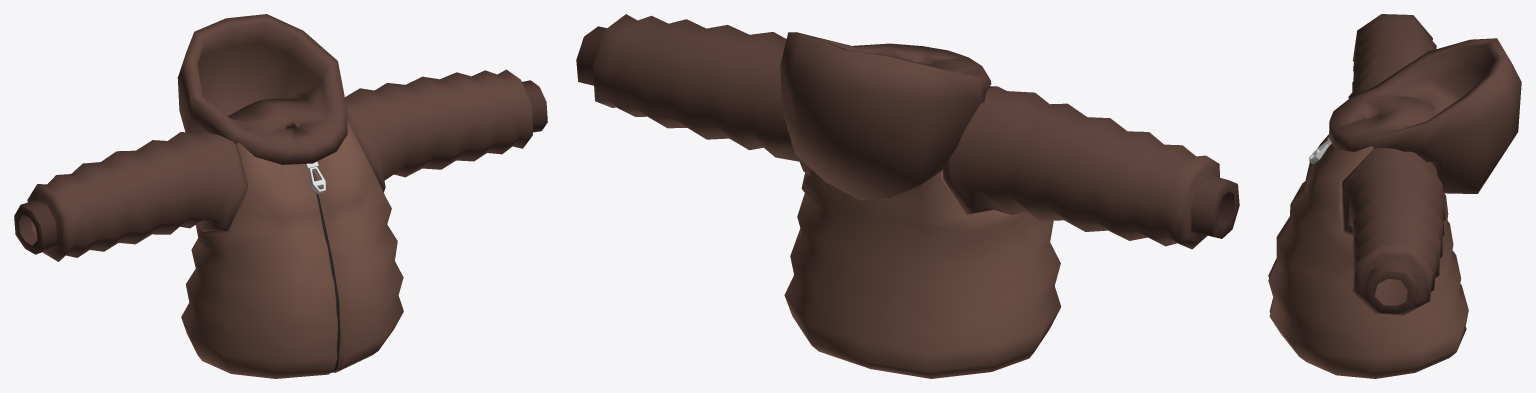
File: Outerwear_Brown_009.glb
The picture shows the model from 3 angles, left to right: view 1: azimuth 30°, elevation 25°; view 2: azimuth 150°, elevation 25°; view 3: azimuth 270°, elevation 25°; orthographic projection. The views are drawn at different scales.
Parts seen in each view (by area): view 1: Outerwear_Brown_009; view 2: Outerwear_Brown_009; view 3: Outerwear_Brown_009.
Part boxes in pixels (<box>): Outerwear_Brown_009: <box>14,14,547,378</box>; Outerwear_Brown_009: <box>576,14,1239,378</box>; Outerwear_Brown_009: <box>1268,14,1521,378</box>.
Bounding box in the file's own units: 1.3 × 0.677 × 0.5446.
Materials: 1 (1 with a texture image).
